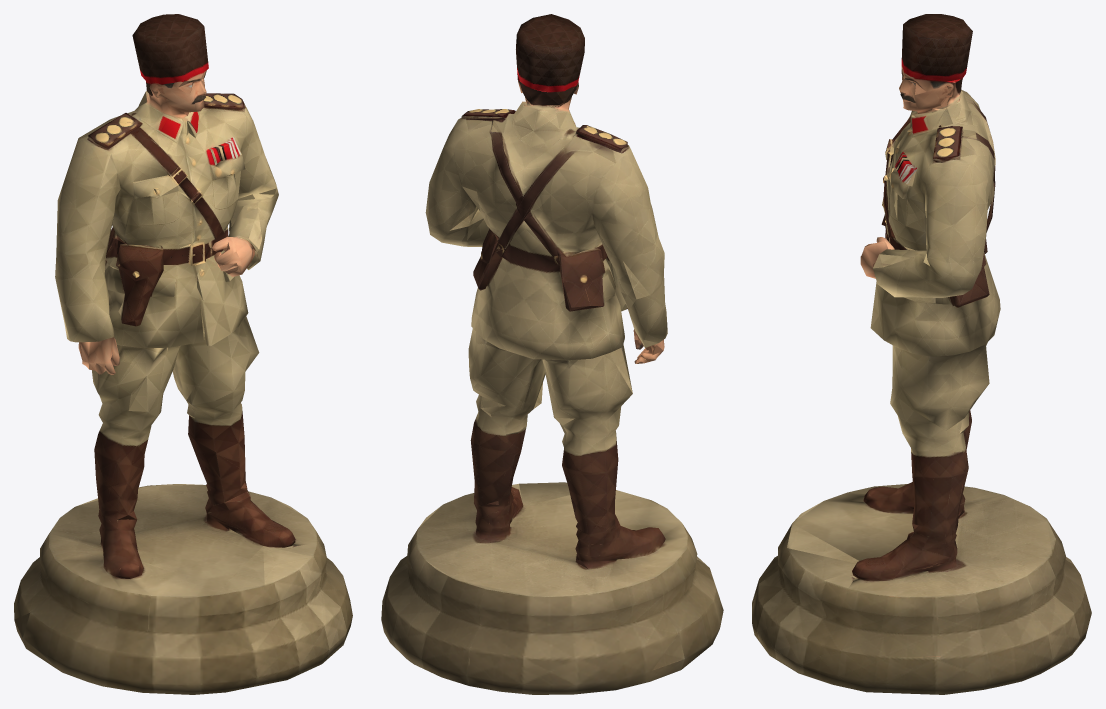
File: ottoman_king.glb
3 views of the same model, side by side, from view 1: azimuth 30°, elevation 25°; view 2: azimuth 150°, elevation 25°; view 3: azimuth 270°, elevation 25° (orthographic).
Bounding box in the file's own units: 1.02 × 2 × 1.02.
Materials: 1 (1 with a texture image).
